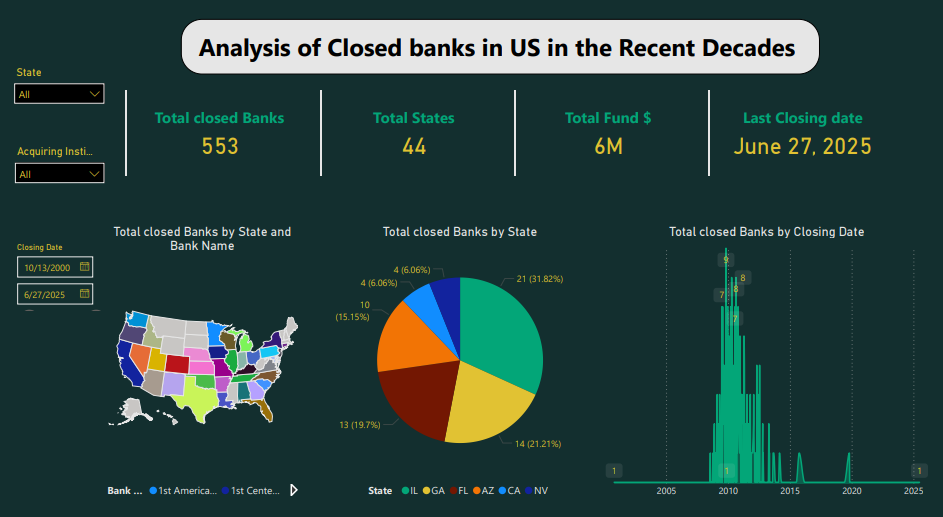

The dashboard page shown, as its layout file describes it:
{"tool":"powerbi","page":{"name":"Summary","canvas":[1280,720],"ordinal":0},"visuals":[{"type":"cardVisual","fields":{"Data":["_Measures.Total closed Banks","_Measures.Total States","_Measures.Total Fund $","_Measures.Last Closing date"]},"box":[170.1,120.9,1041.3,124.7],"z":0},{"type":"lineChart","fields":{"Y":["_Measures.Total closed Banks"],"Category":["Closed Banks.Closing Date "]},"box":[812.6,304.3,432.8,370.4],"z":1000},{"type":"textbox","box":[248.7,30.8,851.3,74],"z":2000},{"type":"slicer","fields":{"Values":["Closed Banks.State "]},"box":[22,94,130,90],"z":3000},{"type":"slicer","fields":{"Values":["Closed Banks.Acquiring Institution "]},"box":[22.7,200.3,128.5,90.7],"z":4000},{"type":"slicer","fields":{"Values":["Closed Banks.Closing Date "]},"box":[22.7,328.8,128.5,90.7],"z":5000},{"type":"pieChart","fields":{"Y":["_Measures.Total closed Banks"],"Category":["Closed Banks.State "]},"box":[429,304.3,383.6,370.4],"z":6000},{"type":"shapeMap","fields":{"Series":["Closed Banks.Bank Name "],"Value":["_Measures.Total closed Banks"],"Category":["Closed Banks.State "]},"box":[151.2,304.3,253.2,370.4],"z":7000}]}

Visuals, with their boxes in screenshot pixels (x1, y1, x2, y2), scaled from the page's 1280x720 canvas onto the 943x517 screenshot:
cardVisual - _Measures.Total closed Banks x _Measures.Total States: x1=125 y1=87 x2=892 y2=176
lineChart - _Measures.Total closed Banks x Closed Banks.Closing Date : x1=599 y1=219 x2=918 y2=484
textbox: x1=183 y1=22 x2=810 y2=75
slicer - Closed Banks.State : x1=16 y1=67 x2=112 y2=132
slicer - Closed Banks.Acquiring Institution : x1=17 y1=144 x2=111 y2=209
slicer - Closed Banks.Closing Date : x1=17 y1=236 x2=111 y2=301
pieChart - _Measures.Total closed Banks x Closed Banks.State : x1=316 y1=219 x2=599 y2=484
shapeMap - Closed Banks.Bank Name  x _Measures.Total closed Banks: x1=111 y1=219 x2=298 y2=484
